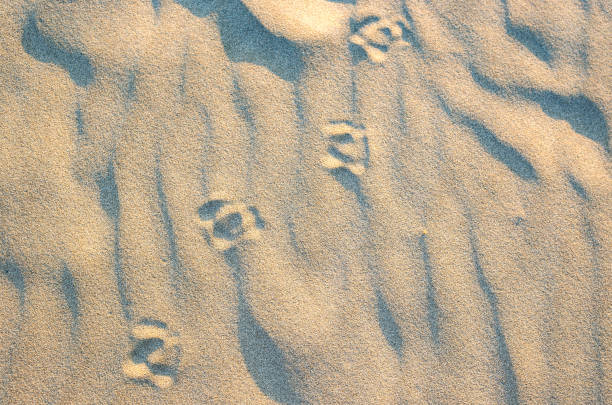animal_foot_print: (122, 323, 179, 388), (198, 199, 263, 250), (349, 15, 409, 62), (321, 121, 368, 175)
